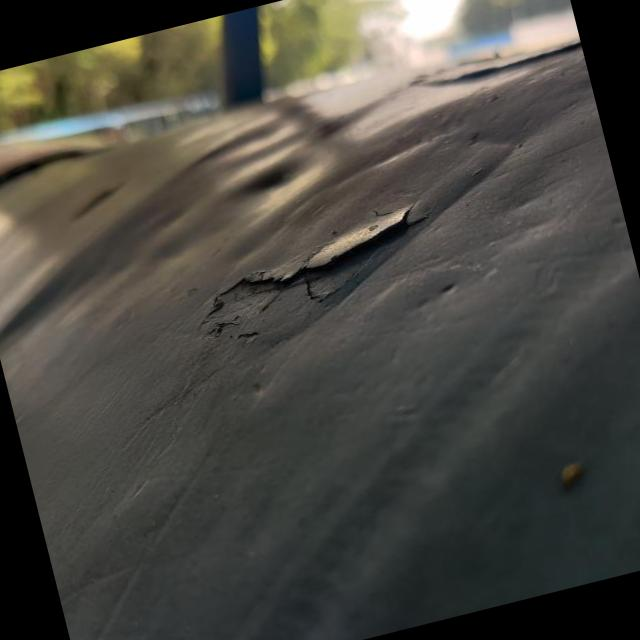Crack: (200, 207, 426, 335)
Dent: (217, 132, 331, 233)
